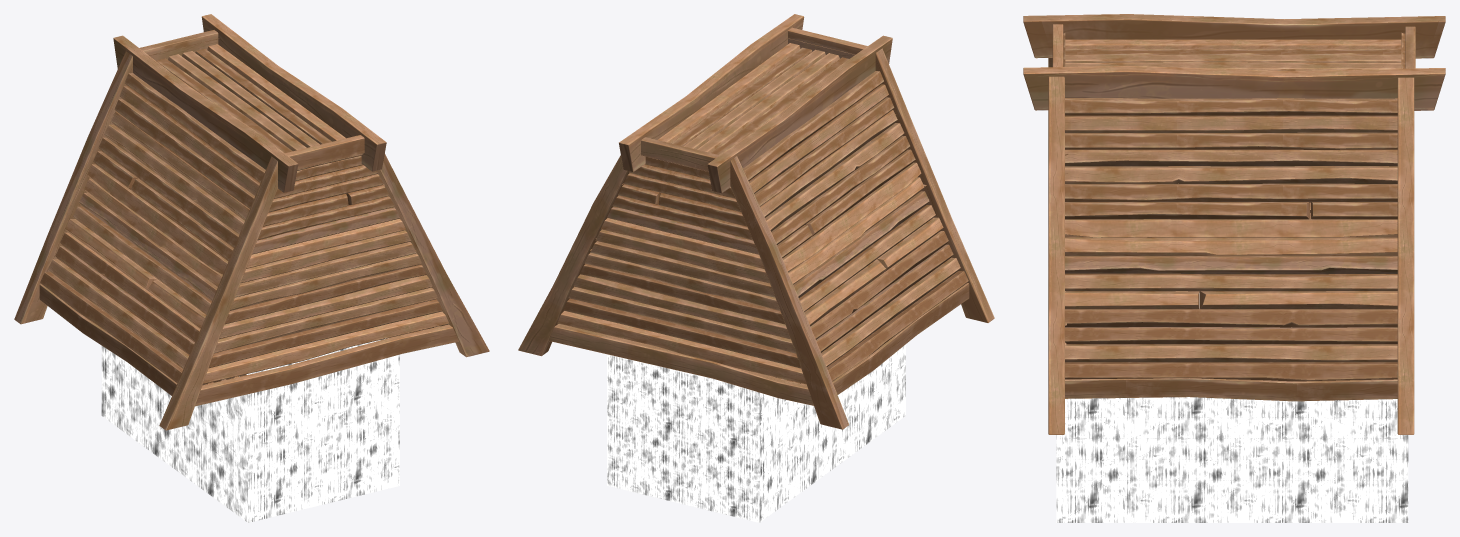
File: SM_BuildingBase_01.fbx
3 views of the same model, side by side, from view 1: azimuth 30°, elevation 25°; view 2: azimuth 150°, elevation 25°; view 3: azimuth 270°, elevation 25° (orthographic). The views are drawn at different scales.
Visible parts, largest first — view 1: SM_BuildingBase_01_LOD0; view 2: SM_BuildingBase_01_LOD0; view 3: SM_BuildingBase_01_LOD0.
Part boxes in pixels (x1,y1,x2,y2): SM_BuildingBase_01_LOD0: (14, 14, 489, 522); SM_BuildingBase_01_LOD0: (518, 14, 994, 522); SM_BuildingBase_01_LOD0: (1023, 14, 1445, 522).
Bounding box in the file's own units: 1279 × 1200 × 1365.
Materials: 3 (3 with a texture image).
